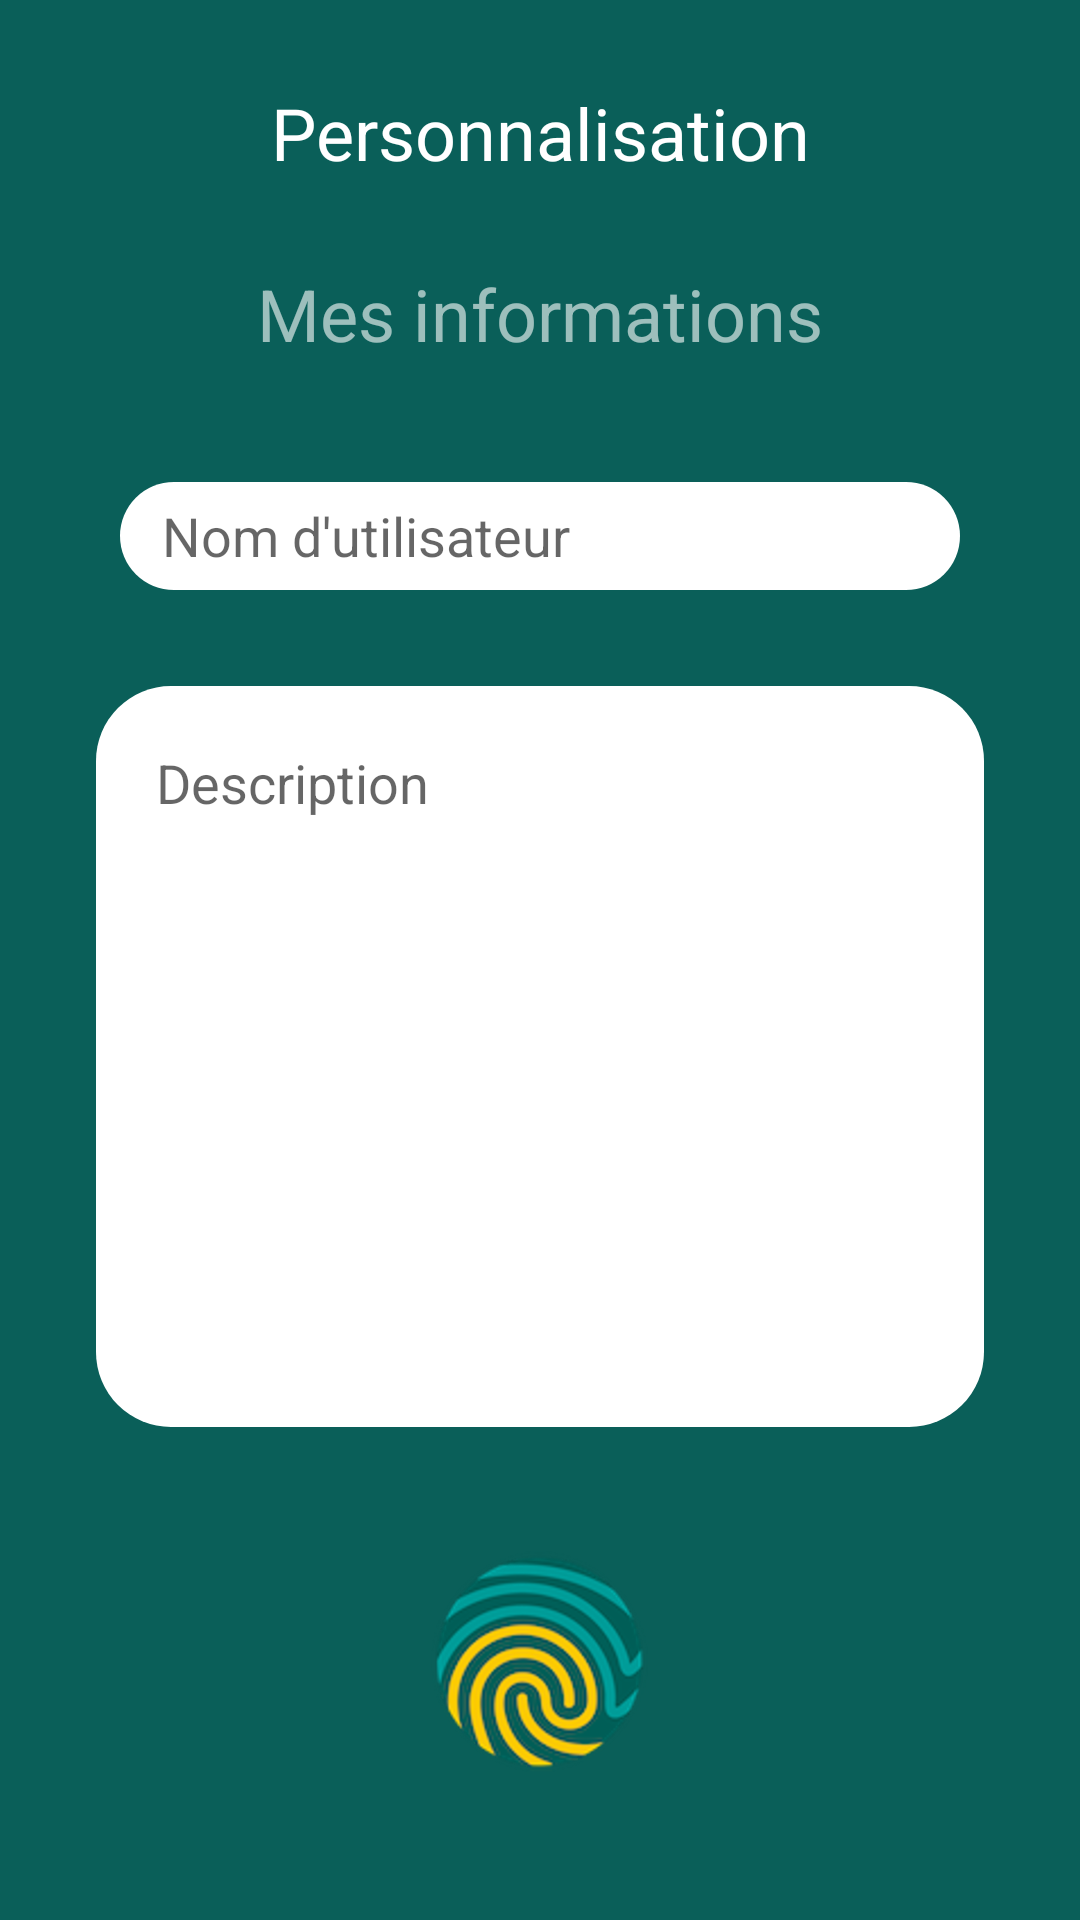

Icon bounding boxes for this 1080 x 1920 phone screenshot, format [left=x1, top=y1, right=x2, bottom=y2]:
empreinte: [left=437, top=1564, right=642, bottom=1767]
